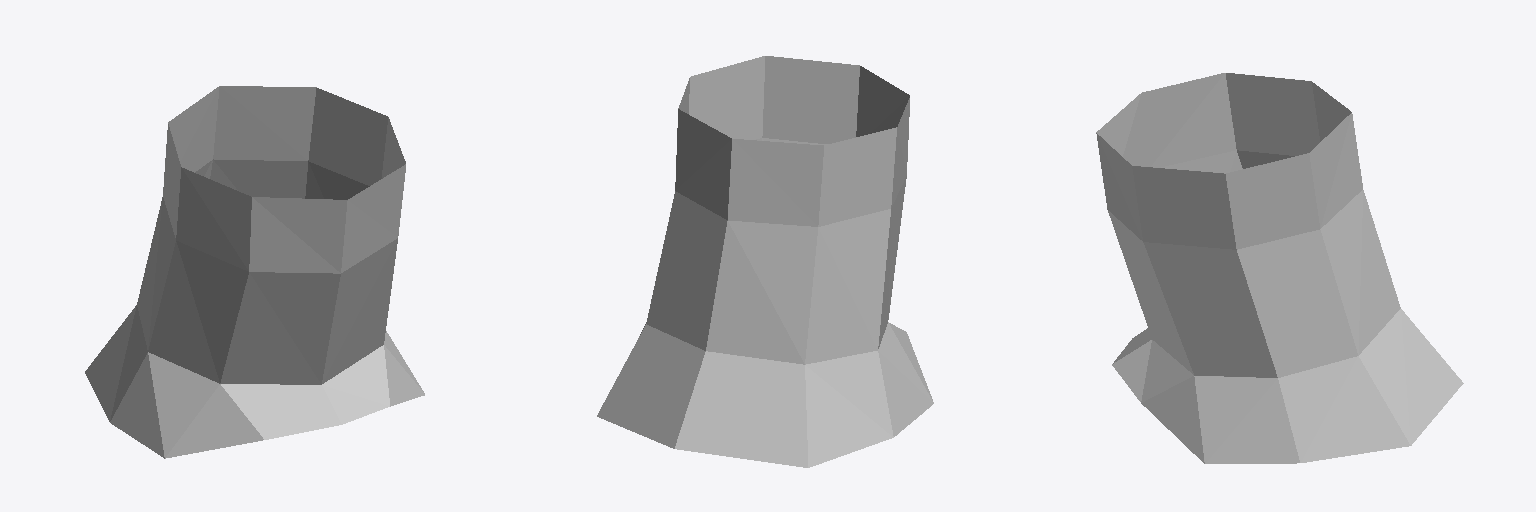
File: low_lags_L.obj
The picture shows the model from 3 angles: view 1: azimuth 30°, elevation 25°; view 2: azimuth 150°, elevation 25°; view 3: azimuth 270°, elevation 25°; orthographic projection.
Visible parts, largest first — view 1: Meowth; view 2: Meowth; view 3: Meowth.
Boxes of the visible parts, x1=… form: Meowth: x1=85, y1=86, x2=424, y2=458; Meowth: x1=597, y1=56, x2=933, y2=467; Meowth: x1=1096, y1=73, x2=1463, y2=463.
Bounding box in the file's own units: 3.62 × 3.66 × 4.23.